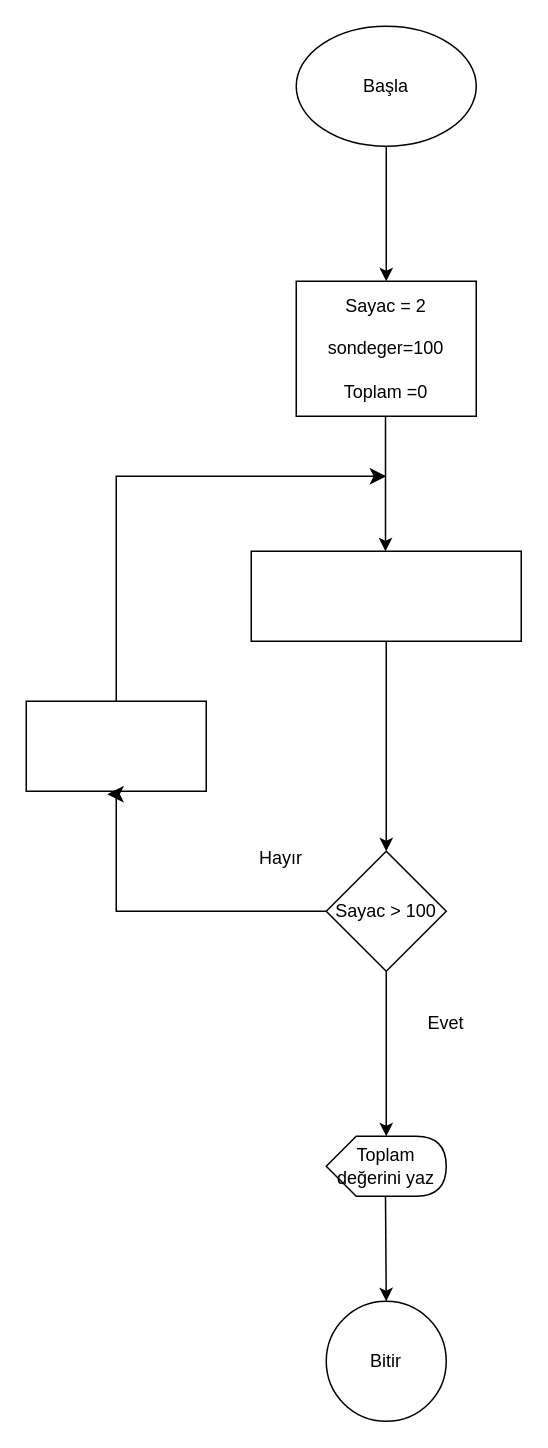
Some shapes in this 548 by 1448 pixel diagram are drawn without their labels. The shapes that lost their labels are listed below. From the top down, each one's centre as x and y in pixels, then its label:
pixel 385 595: Toplam = Toplam + Sayac
pixel 115 745: Sayac = Sayac + 2
